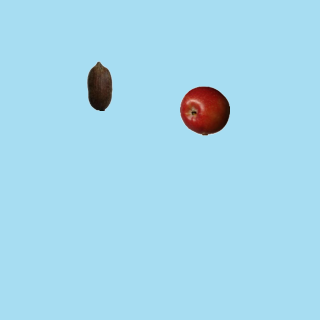Apple Braeburn: (179, 85, 229, 135)
Nut Pecan: (74, 60, 124, 110)
